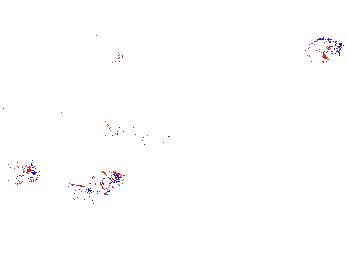X-ray fish: (298, 34, 344, 67), (75, 170, 126, 195), (8, 156, 38, 183)
red belly glassfish: (108, 50, 125, 65)
redtail glassfish: (99, 122, 173, 146)
